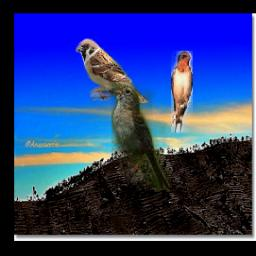Sparrow: (111, 82, 170, 190), (77, 38, 149, 104)
Swallow: (172, 51, 194, 132)
